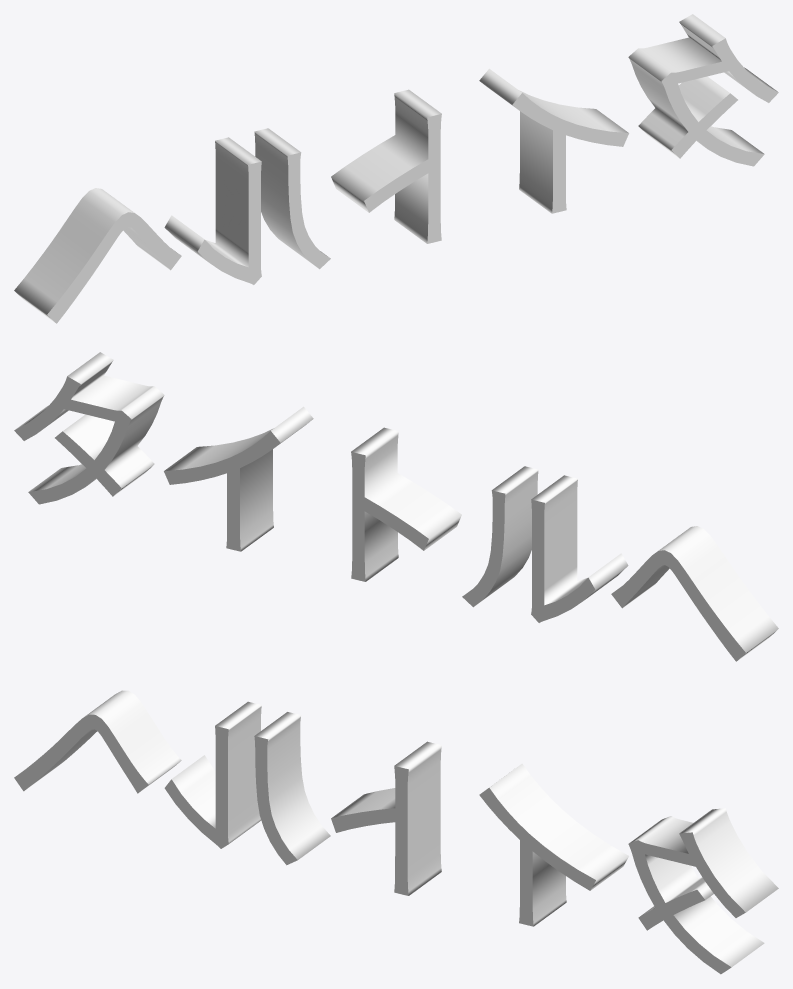
The model's file is ToTitle.obj.
3 views of the same model, one above another, from view 1: azimuth 30°, elevation 25°; view 2: azimuth 150°, elevation 25°; view 3: azimuth 330°, elevation 25° (orthographic).
Parts seen in each view (by area): view 1: テキスト; view 2: テキスト; view 3: テキスト.
Part boxes in pixels (x1=…): テキスト: x1=14, y1=14, x2=778, y2=323; テキスト: x1=14, y1=352, x2=778, y2=661; テキスト: x1=14, y1=690, x2=778, y2=974.
Size of the model in its own units: 4.86 by 0.858 by 0.38.
Materials: 1 (1 with a texture image).
